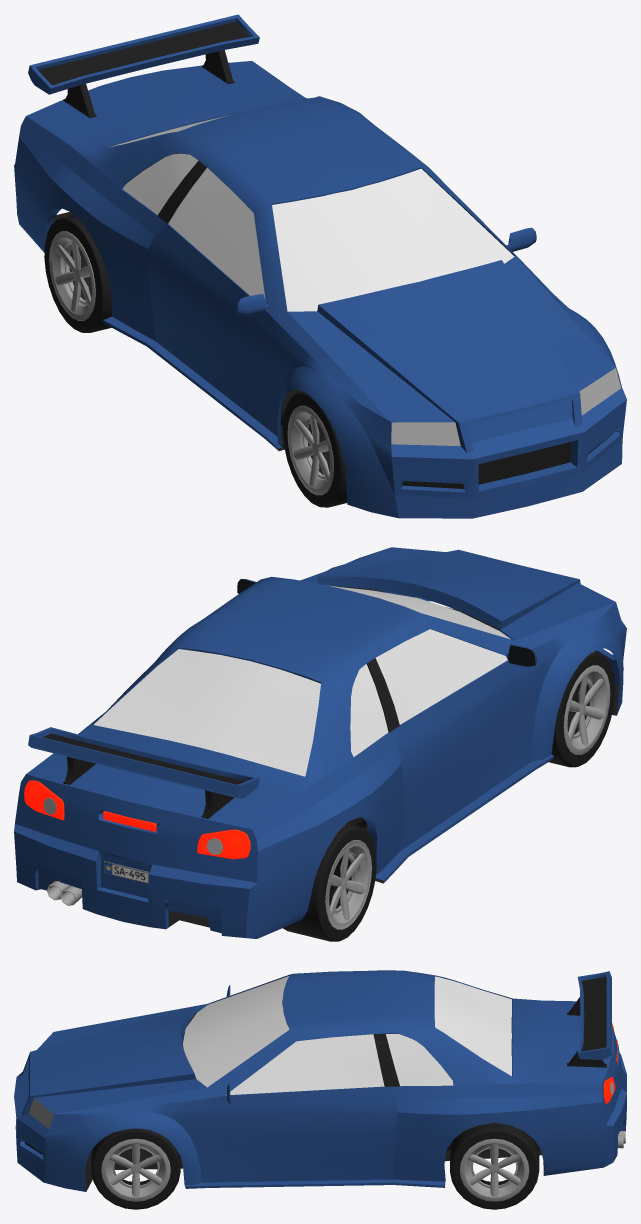
File: Car1.fbx
3 views of the same model, one above another, from view 1: azimuth 30°, elevation 25°; view 2: azimuth 150°, elevation 25°; view 3: azimuth 270°, elevation 25° (orthographic). The views are drawn at different scales.
Parts seen in each view (by area): view 1: JDM_Body, Wheel_RR, Wheel_FR; view 2: JDM_Body, Wheel_RR, Wheel_FR, Plate; view 3: JDM_Body, Wheel_RL, Wheel_FL.
Part boxes in pixels (x1,y1,x2,y2): JDM_Body: (14, 14, 626, 518); Wheel_RR: (44, 214, 111, 332); Wheel_FR: (282, 391, 346, 507); JDM_Body: (14, 547, 626, 938); Wheel_RR: (283, 823, 376, 941); Wheel_FR: (549, 651, 614, 767); Plate: (104, 861, 148, 883); JDM_Body: (14, 970, 626, 1191); Wheel_RL: (450, 1122, 539, 1209); Wheel_FL: (91, 1128, 180, 1209).
Size of the model in its own units: 206 by 146 by 487.
